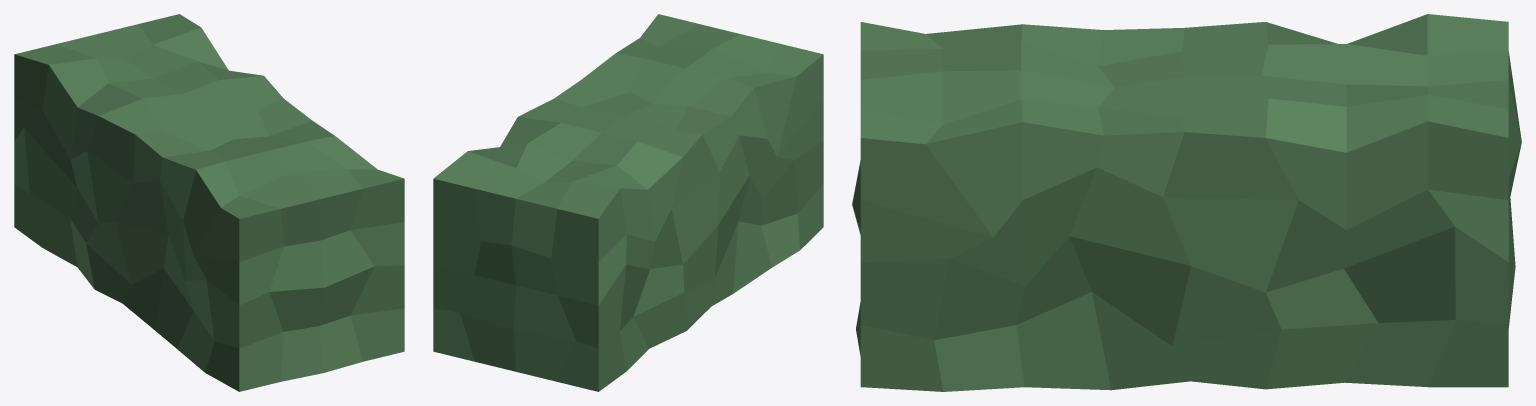
Rendered from bush_repeatable.fbx.
3 renders of one model, left to right at view 1: azimuth 30°, elevation 25°; view 2: azimuth 150°, elevation 25°; view 3: azimuth 270°, elevation 25°, orthographic. The views are drawn at different scales.
Visible parts, largest first — view 1: Cube; view 2: Cube; view 3: Cube.
Boxes of the visible parts, left/top/right/bottom form: Cube: left=14, top=14, right=404, bottom=391; Cube: left=433, top=14, right=823, bottom=391; Cube: left=852, top=14, right=1521, bottom=391.
Size of the model in its own units: 223 by 214 by 487.
